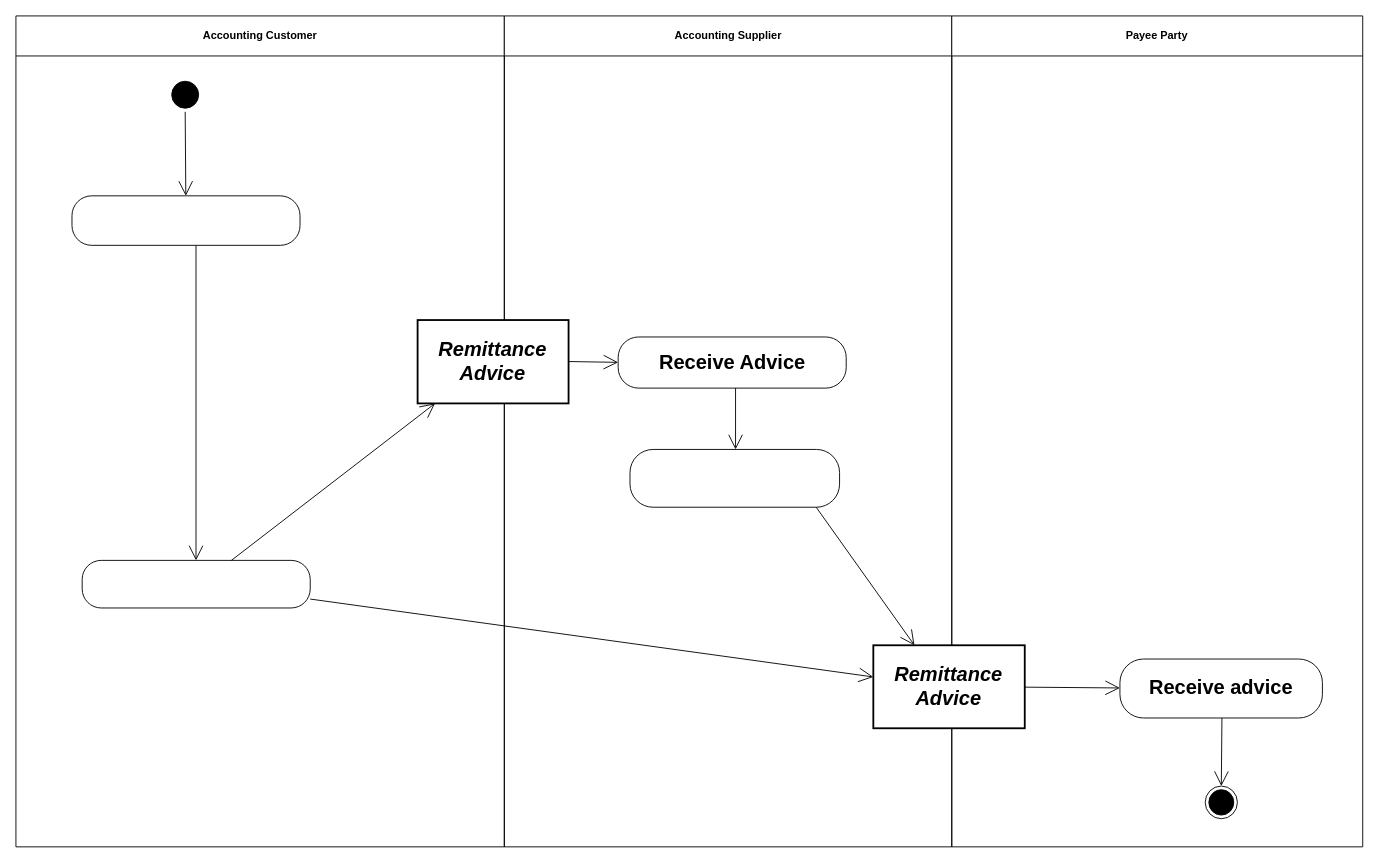
The diagram is 1379 pixels wide and 864 high, and some of its shapes have lost their labels. Here are the shapes that lost their labels. From the top down, the centre of each, then its label:
At pixel 185 220: "Authorize Payment".
At pixel 734 478: "Notify Payee".
At pixel 195 583: "Notify of Payment".
